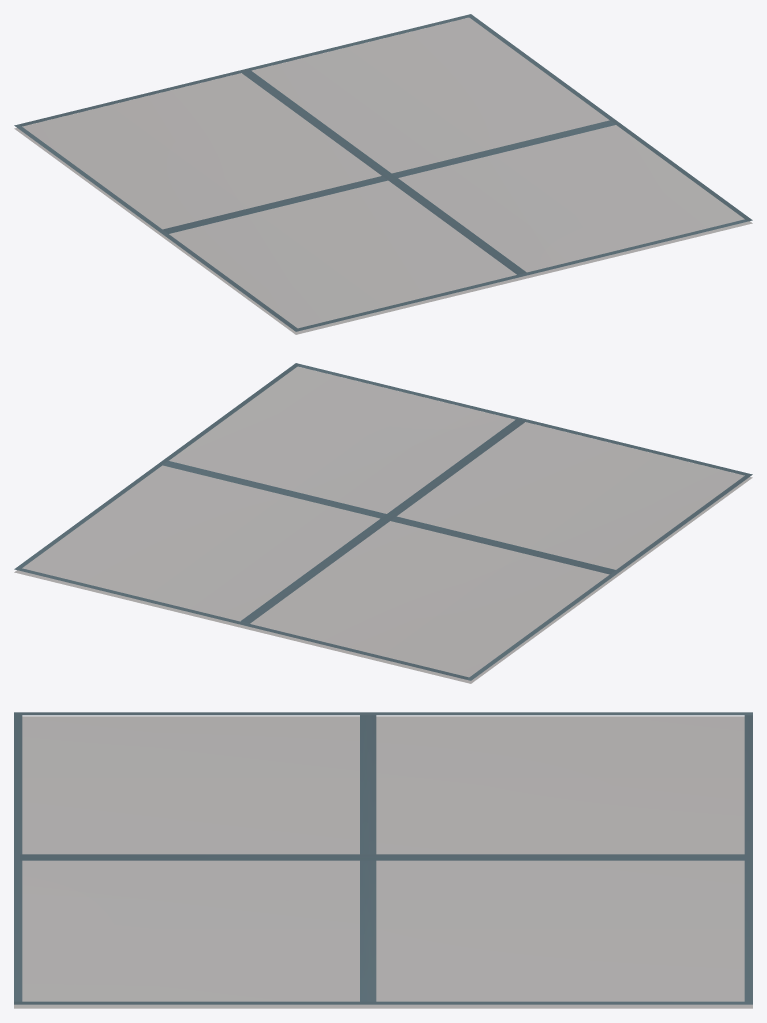
The model's file is Centre_Tile.fbx.
3 renders of one model, top to bottom at view 1: azimuth 30°, elevation 25°; view 2: azimuth 150°, elevation 25°; view 3: azimuth 270°, elevation 25°, orthographic. The views are drawn at different scales.
Visible parts, largest first — view 1: Centre_Tile; view 2: Centre_Tile; view 3: Centre_Tile.
Boxes of the visible parts, x1,y1,x2,y2 form: Centre_Tile: (14,14,752,334); Centre_Tile: (14,363,752,683); Centre_Tile: (14,712,752,1008).
Bounding box in the file's own units: 0.7592 × 0.006 × 0.8112.
